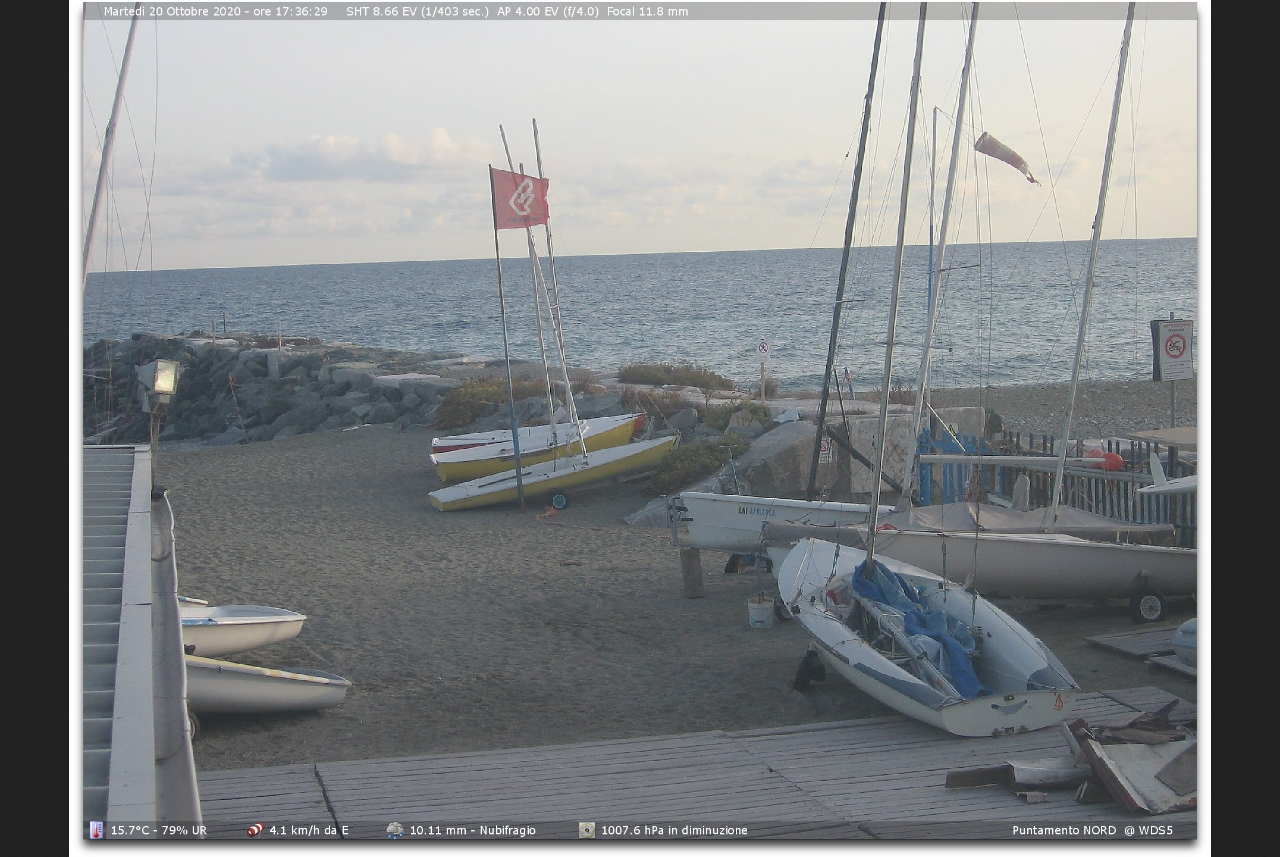yes: (492, 171, 550, 229)
